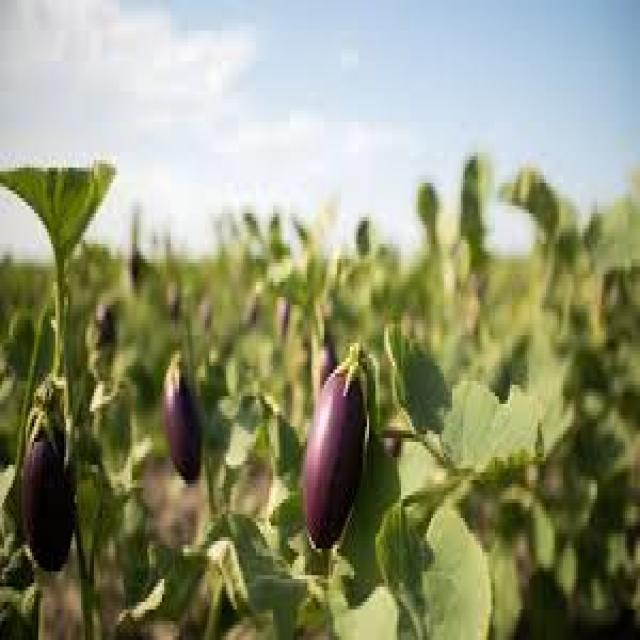Eggplant: (304, 346, 371, 559), (20, 377, 76, 576), (163, 348, 204, 486)
